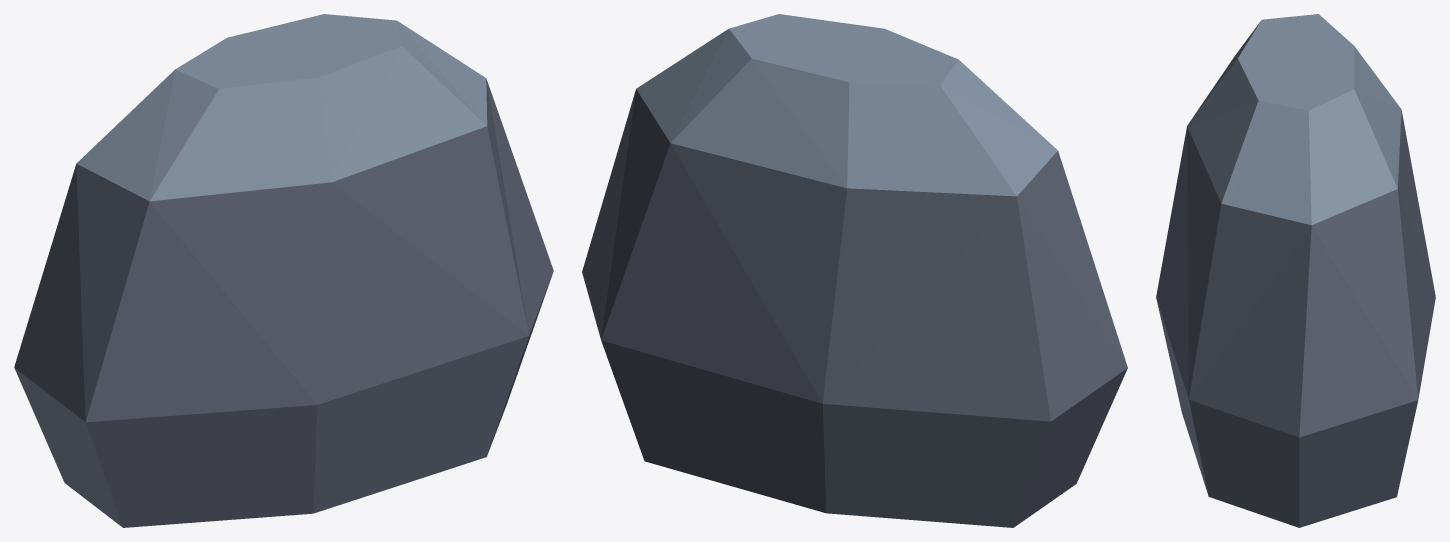
The model's file is cave-rock-large.glb.
3 views of the same model, side by side, from view 1: azimuth 30°, elevation 25°; view 2: azimuth 150°, elevation 25°; view 3: azimuth 270°, elevation 25° (orthographic). The views are drawn at different scales.
Visible parts, largest first — view 1: cave-rock-large__body; view 2: cave-rock-large__body; view 3: cave-rock-large__body.
Boxes of the visible parts, x1,y1,x2,y2 form: cave-rock-large__body: (14,14,553,527); cave-rock-large__body: (582,14,1127,527); cave-rock-large__body: (1156,14,1435,527).
Bounding box in the file's own units: 2.49 × 1.9 × 1.3.
